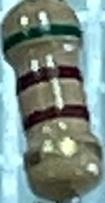Black: (16, 61, 83, 94)
Brown: (23, 100, 93, 131)
Green: (4, 21, 83, 55)
Side-Silver: (23, 136, 102, 167)
